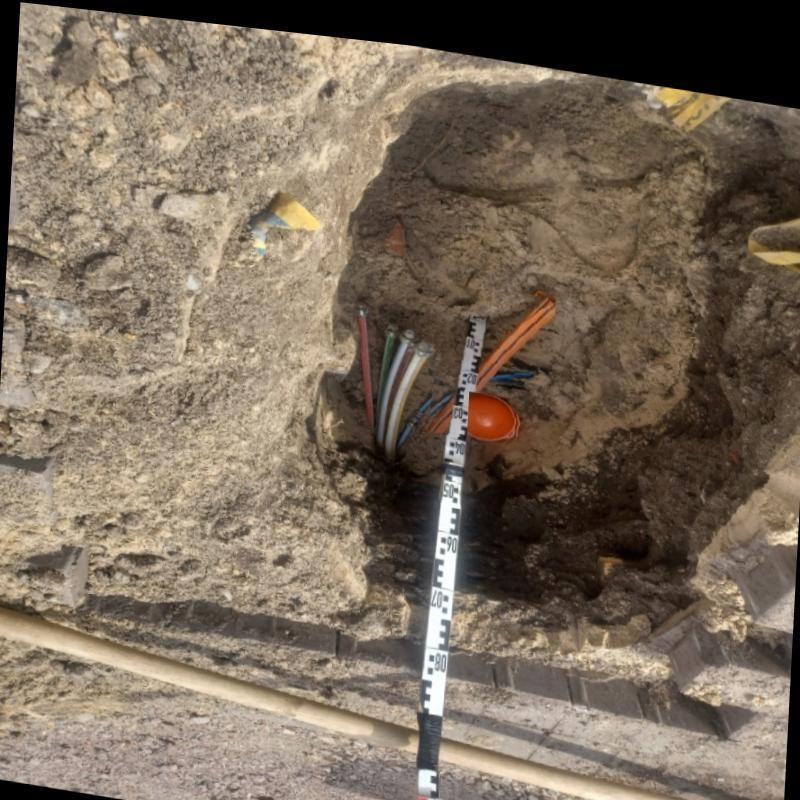Kugelmarker: (467, 381, 517, 429)
Orang-Speednetrohrchen: (427, 283, 556, 423)
